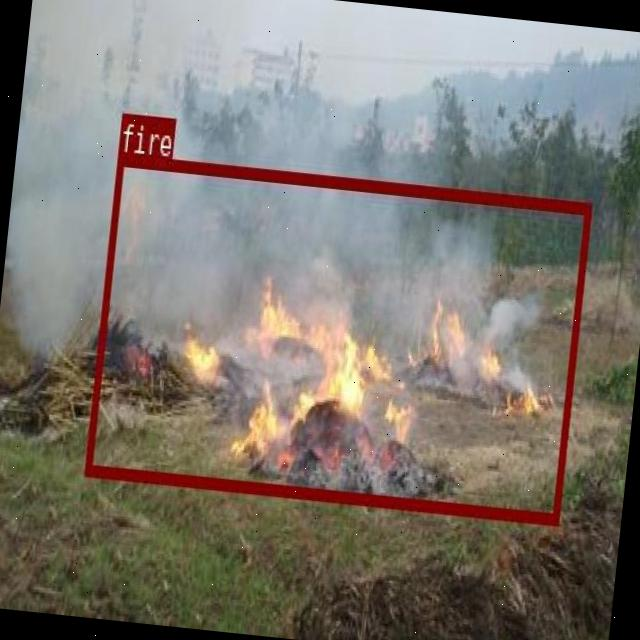fire: (83, 152, 590, 523)
